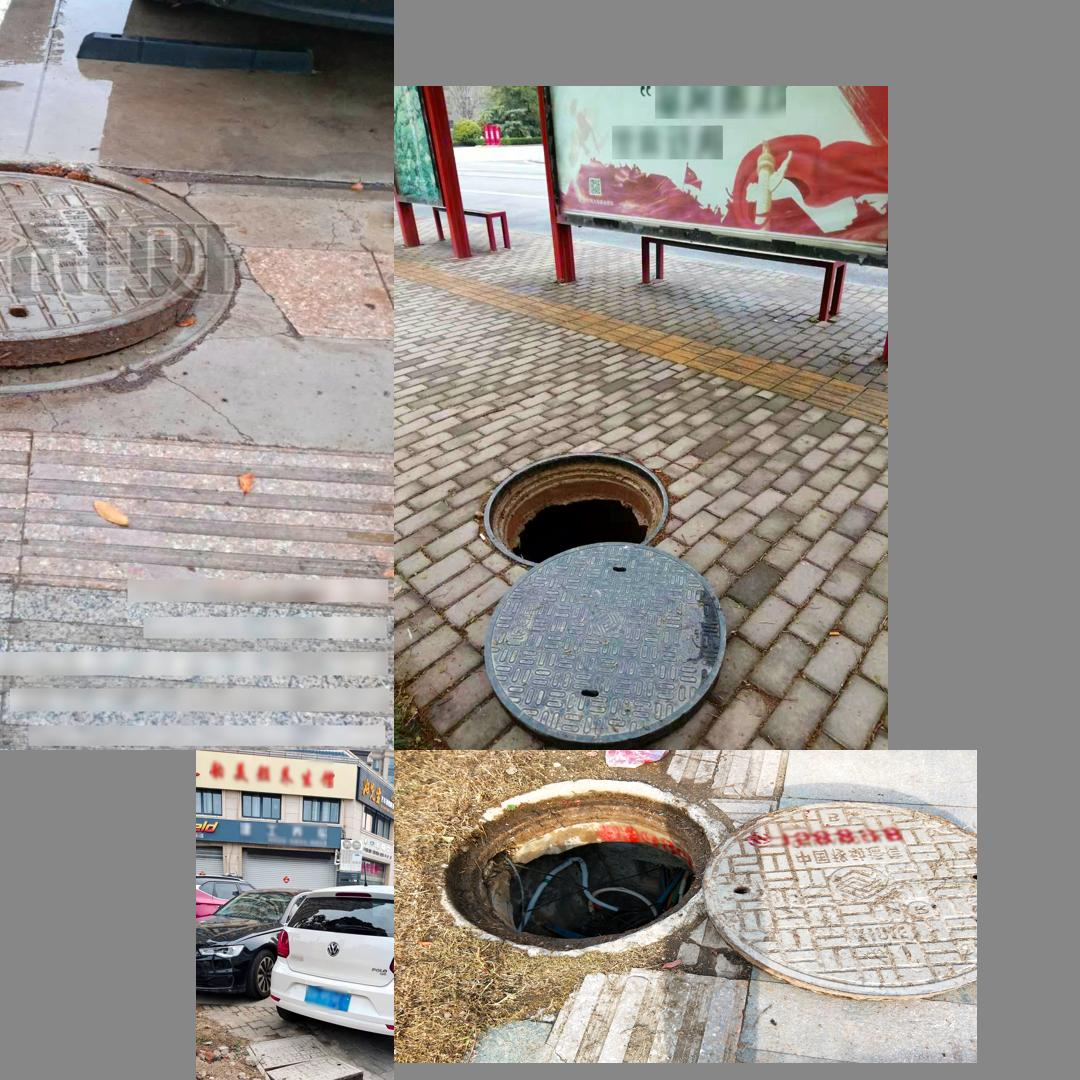uncovered: (436, 779, 976, 1000), (481, 450, 728, 742), (0, 152, 240, 390), (253, 1041, 371, 1080)
